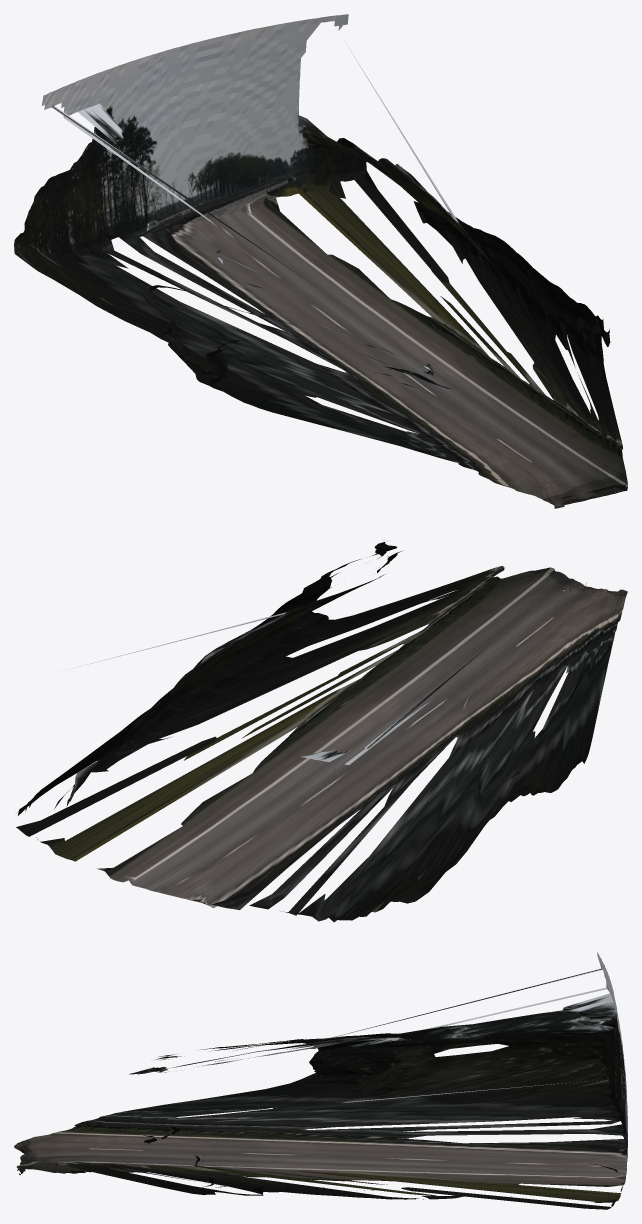
3 views of the same model, one above another, from view 1: azimuth 30°, elevation 25°; view 2: azimuth 150°, elevation 25°; view 3: azimuth 270°, elevation 25° (orthographic). The views are drawn at different scales.
Parts seen in each view (by area): view 1: defaultobject; view 2: defaultobject; view 3: defaultobject.
Part boxes in pixels (x1=…): defaultobject: x1=14, y1=14, x2=627, y2=508; defaultobject: x1=16, y1=542, x2=627, y2=922; defaultobject: x1=14, y1=952, x2=627, y2=1209.
Size of the model in its own units: 23.86 by 12.07 by 44.58.
Materials: 1 (1 with a texture image).
